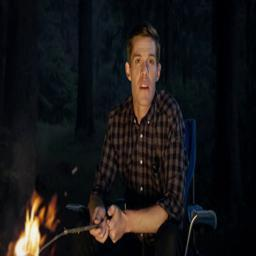fire: (7, 192, 57, 256)
